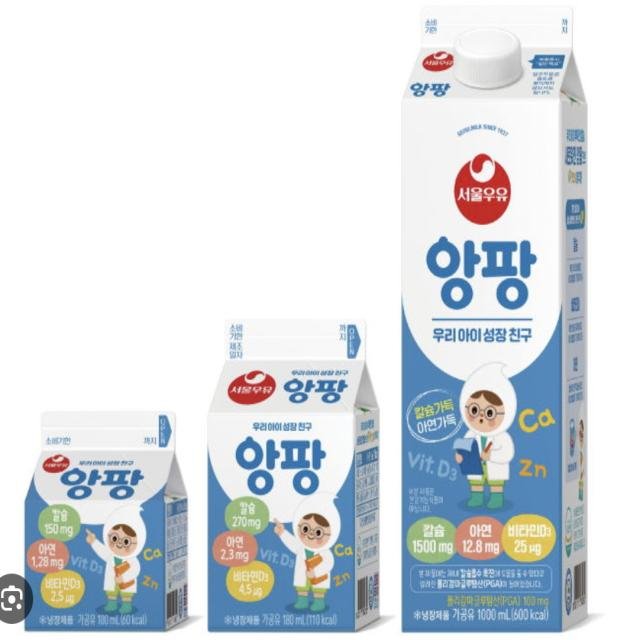biodegradable: (375, 0, 616, 640), (192, 290, 386, 638), (14, 389, 193, 639)
